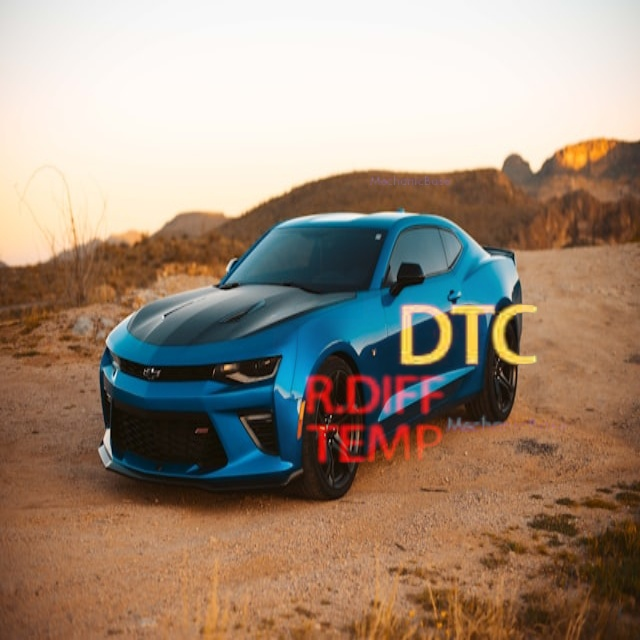symbol: (363, 230, 576, 443), (273, 319, 478, 524), (312, 50, 453, 191)
